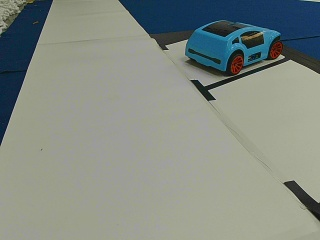car: (184, 20, 282, 74)
